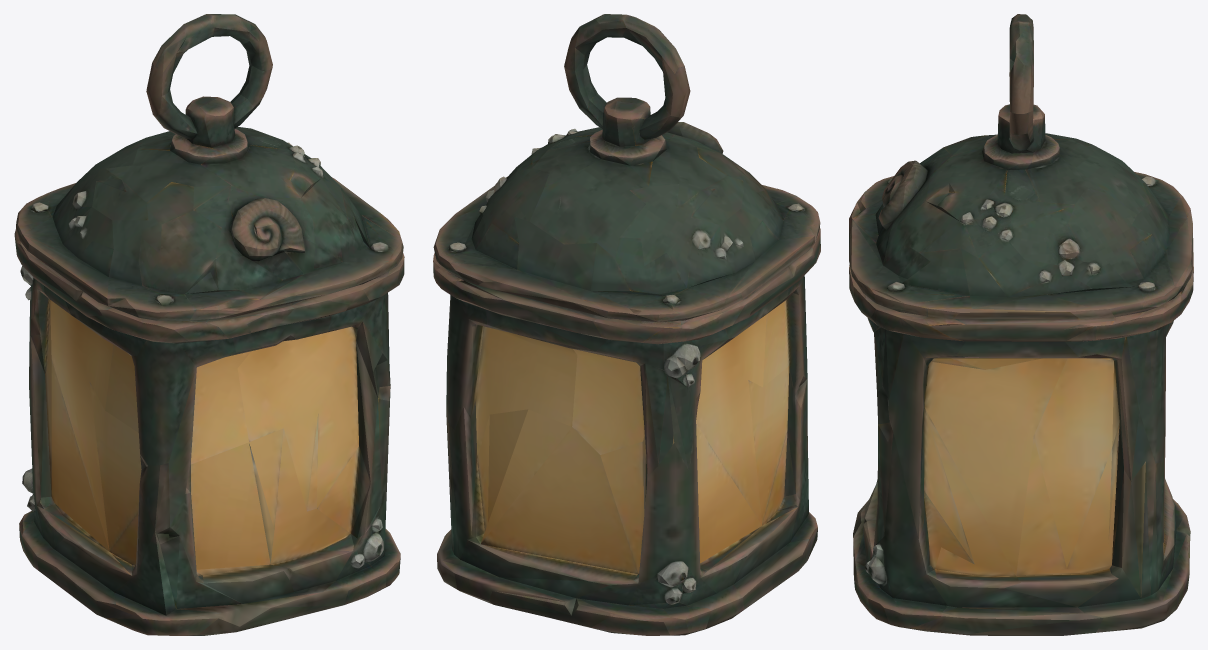
The model's file is east_ferrylight.glb.
The picture shows the model from 3 angles, left to right: view 1: azimuth 30°, elevation 25°; view 2: azimuth 150°, elevation 25°; view 3: azimuth 270°, elevation 25°; orthographic projection.
Visible parts, largest first — view 1: Mesh_0; view 2: Mesh_0; view 3: Mesh_0.
Part boxes in pixels (x1,y1,x2,y2): Mesh_0: (14,14,404,635); Mesh_0: (433,14,820,635); Mesh_0: (849,14,1193,635).
Size of the model in its own units: 0.5498 by 0.95 by 0.5423.
Materials: 1 (1 with a texture image).
